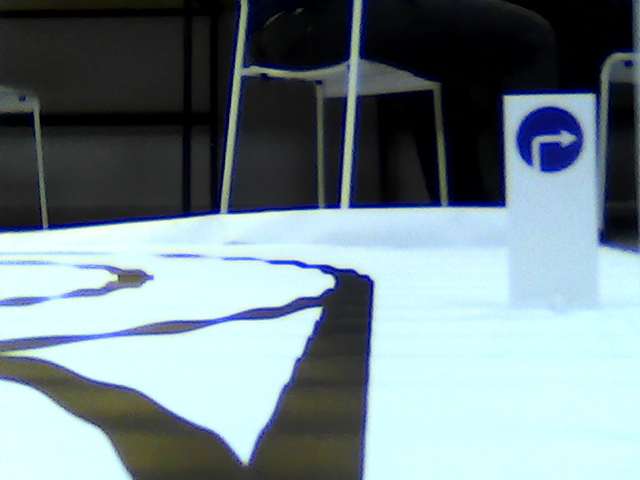Right: (513, 105, 585, 173)
